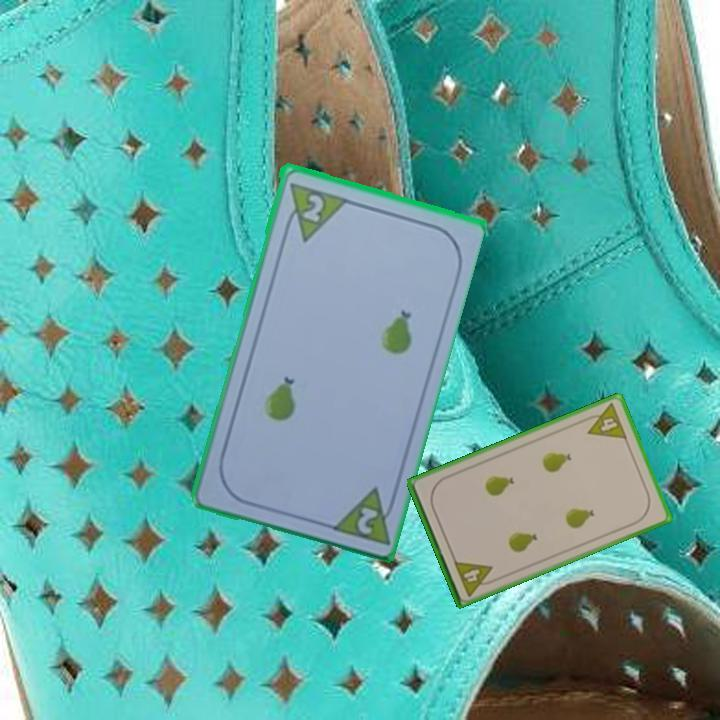2p: (279, 178, 348, 244), (353, 502, 381, 537)
4p: (579, 400, 630, 442), (450, 557, 499, 599)
